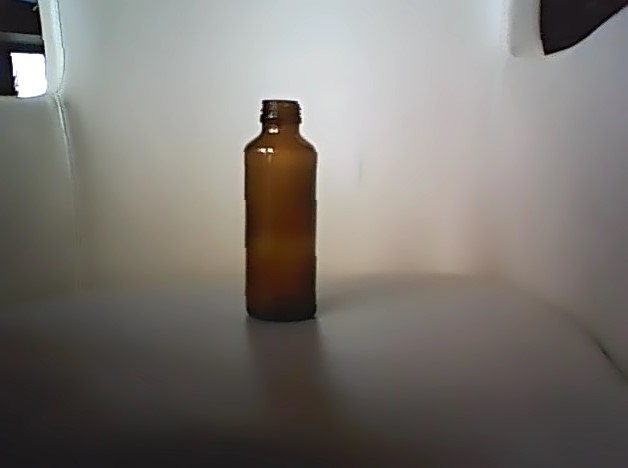Glass: (235, 90, 321, 326)
